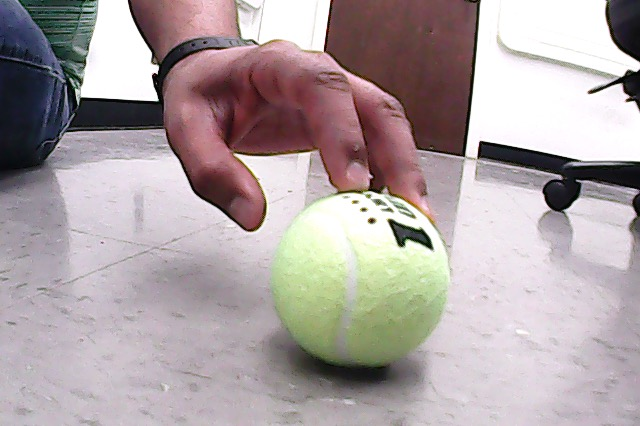ball: (268, 186, 453, 374)
